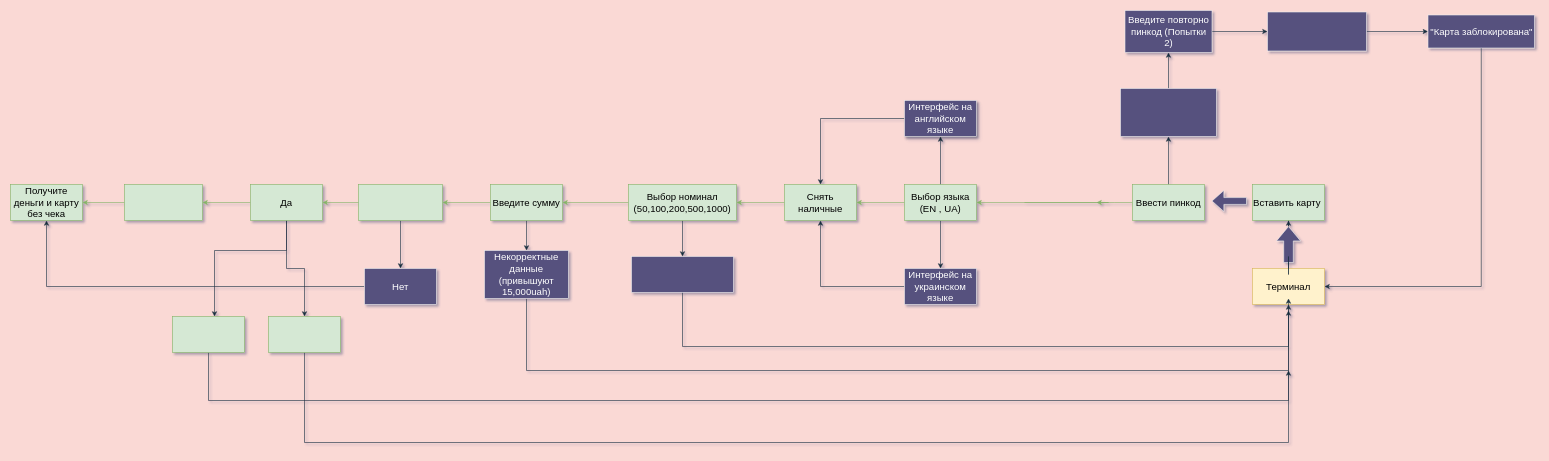
The diagram is 1549 pixels wide and 461 high, and some of its shapes have lost their labels. The centre of each missing label's shape, as x and y in pixels:
В банкомате закончились деньги: (x=304, y=334)
Введите повторно пинкод (Попытки 1): (x=1316, y=31)
Доступно 100,200,500,1000: (x=682, y=274)
Недостаточно Средств на карте: (x=208, y=334)
Неправильный пинкод ( попытки 3): (x=1168, y=112)
Печатать чек ?: (x=400, y=202)
Получите карту, деньги и чек: (x=163, y=202)
